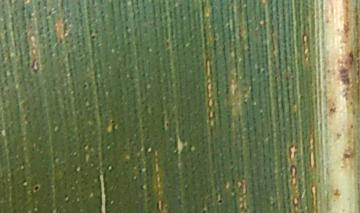tarspot: (89, 31, 97, 44), (31, 184, 41, 194), (215, 197, 226, 205)
